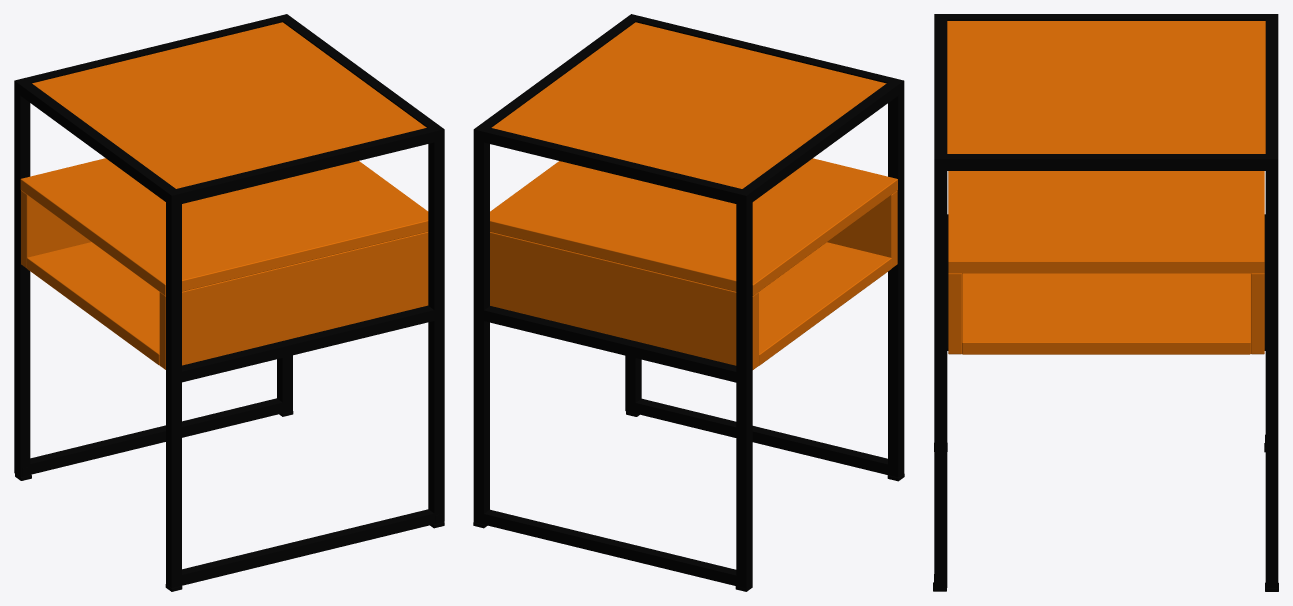
The picture shows the model from 3 angles, left to right: view 1: azimuth 30°, elevation 25°; view 2: azimuth 150°, elevation 25°; view 3: azimuth 270°, elevation 25°; orthographic projection. The views are drawn at different scales.
Parts seen in each view (by area): view 1: furniture, Metal-stand, upper-piece; view 2: furniture, Metal-stand, upper-piece; view 3: furniture, upper-piece, Metal-stand.
Part boxes in pixels (x1=…): furniture: x1=20, y1=158, x2=428, y2=369; Metal-stand: x1=14, y1=14, x2=444, y2=591; upper-piece: x1=32, y1=22, x2=426, y2=188; furniture: x1=490, y1=158, x2=897, y2=369; Metal-stand: x1=473, y1=14, x2=904, y2=591; upper-piece: x1=491, y1=22, x2=886, y2=188; furniture: x1=948, y1=171, x2=1264, y2=354; upper-piece: x1=947, y1=21, x2=1265, y2=153; Metal-stand: x1=933, y1=14, x2=1278, y2=591.
Size of what is drawn, in the model's own units: 1.2 by 1.67 by 1.21.
